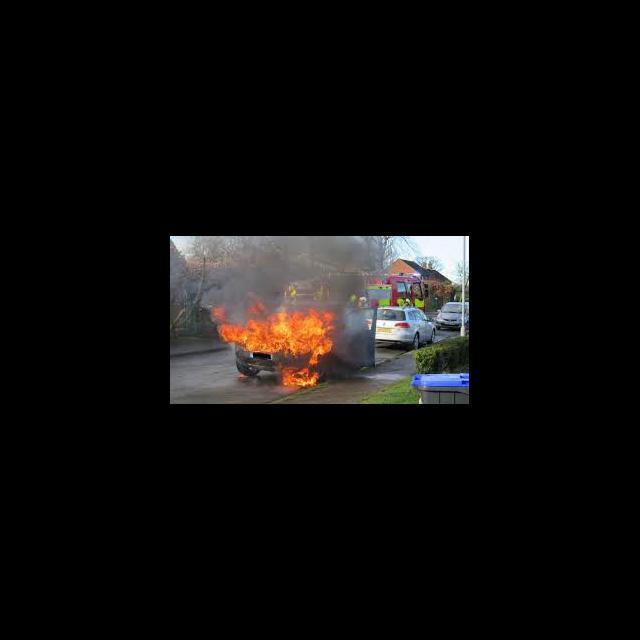Fire: (218, 308, 338, 364), (280, 367, 326, 388), (248, 298, 266, 315), (212, 304, 226, 318)
Smoke: (274, 236, 368, 306), (206, 264, 272, 296), (339, 309, 366, 363), (226, 298, 246, 320)
